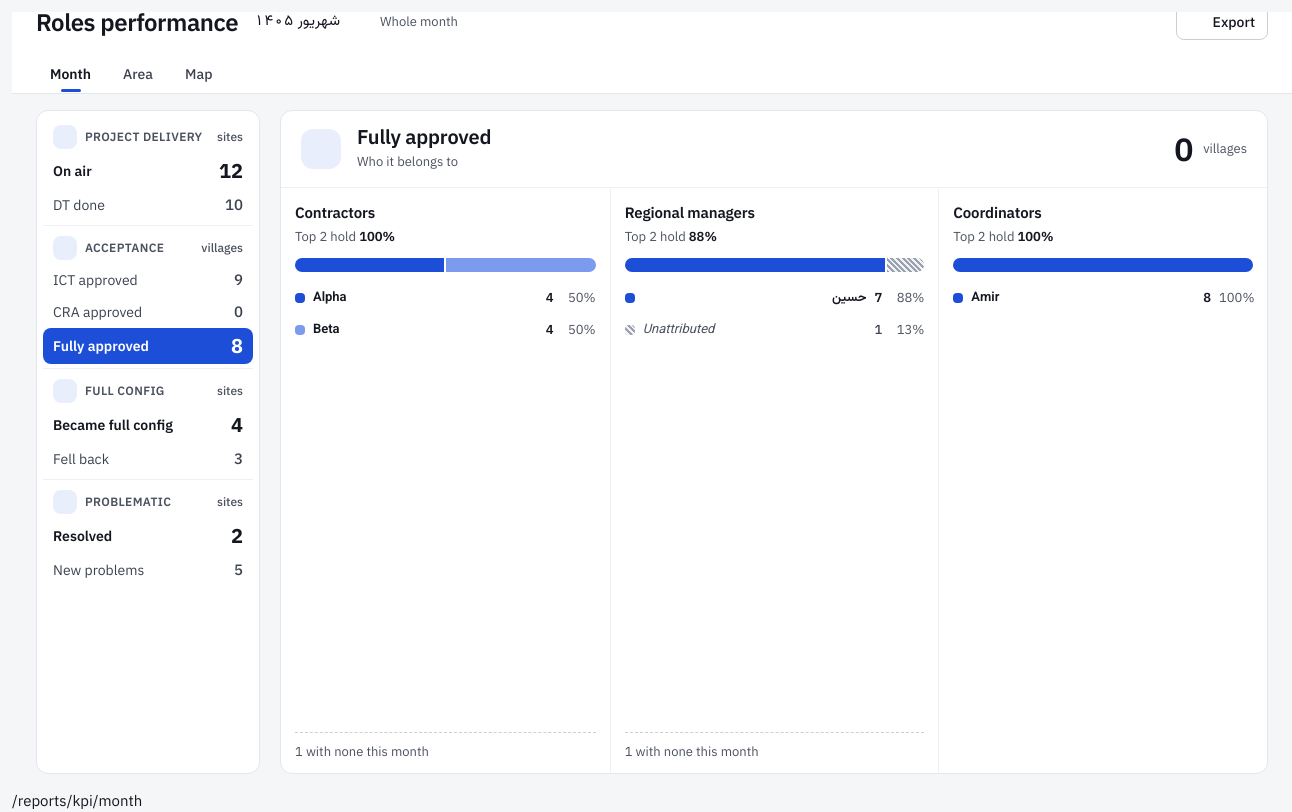
Test case: Month › opens an owner in Area scoped to them
(page scrolled)
Click the button "Alpha 4 50%" at (330, 298), box left=287, top=282, right=604, bottom=314
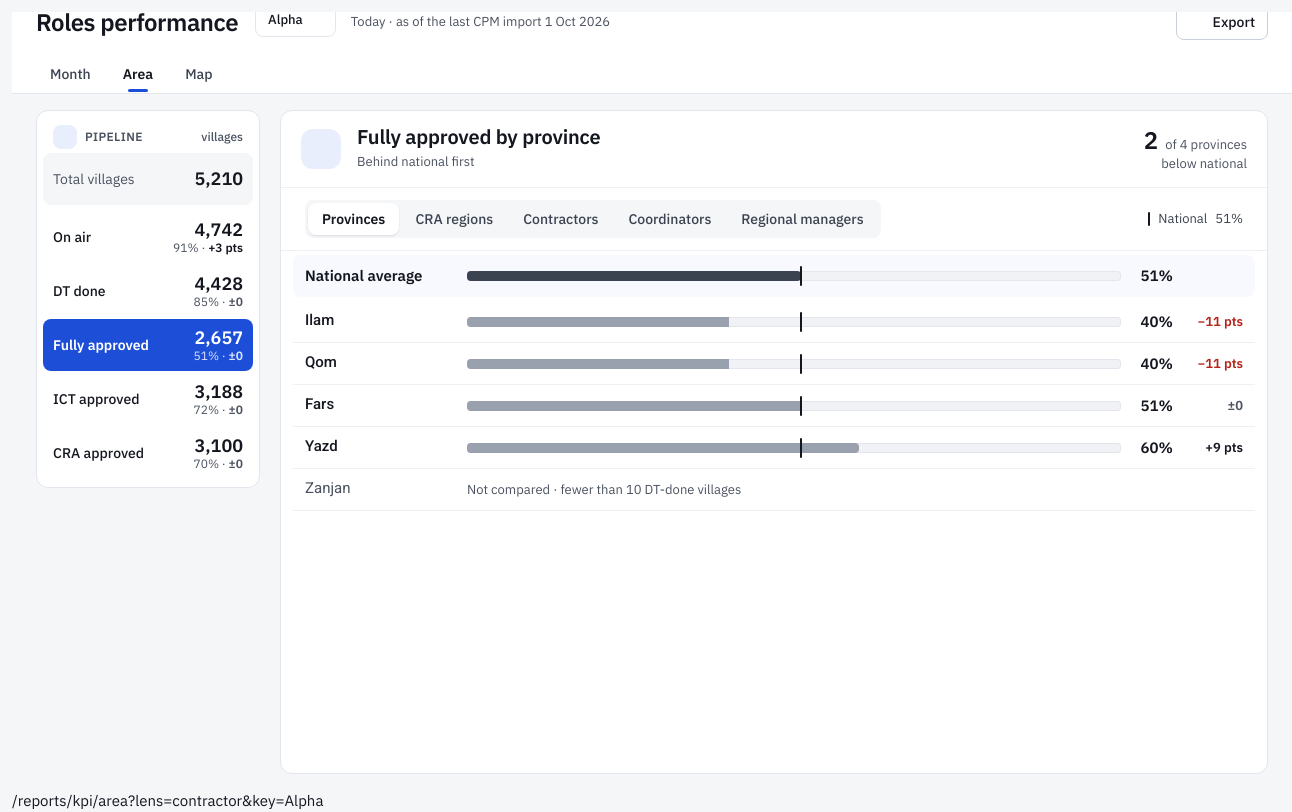
Now the text with test id "where" reads "/reports/kpi/area?lens=contractor&key=Alpha", box left=12, top=791, right=323, bottom=810
